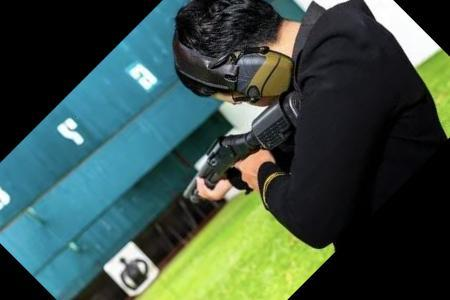larga: (182, 88, 306, 204)
